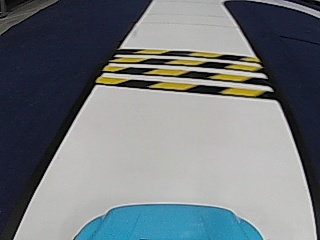bump: (118, 48, 249, 97)
